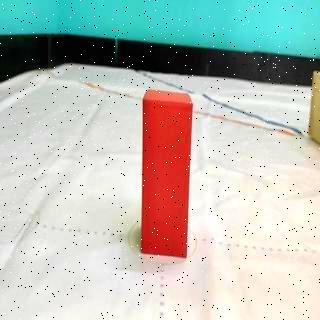redbox: (142, 88, 194, 258), (186, 258, 193, 258)
